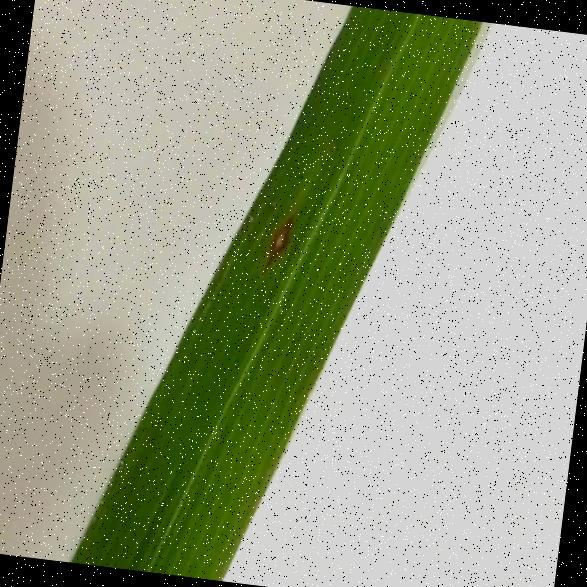Leaf_smut: (255, 176, 305, 284)
